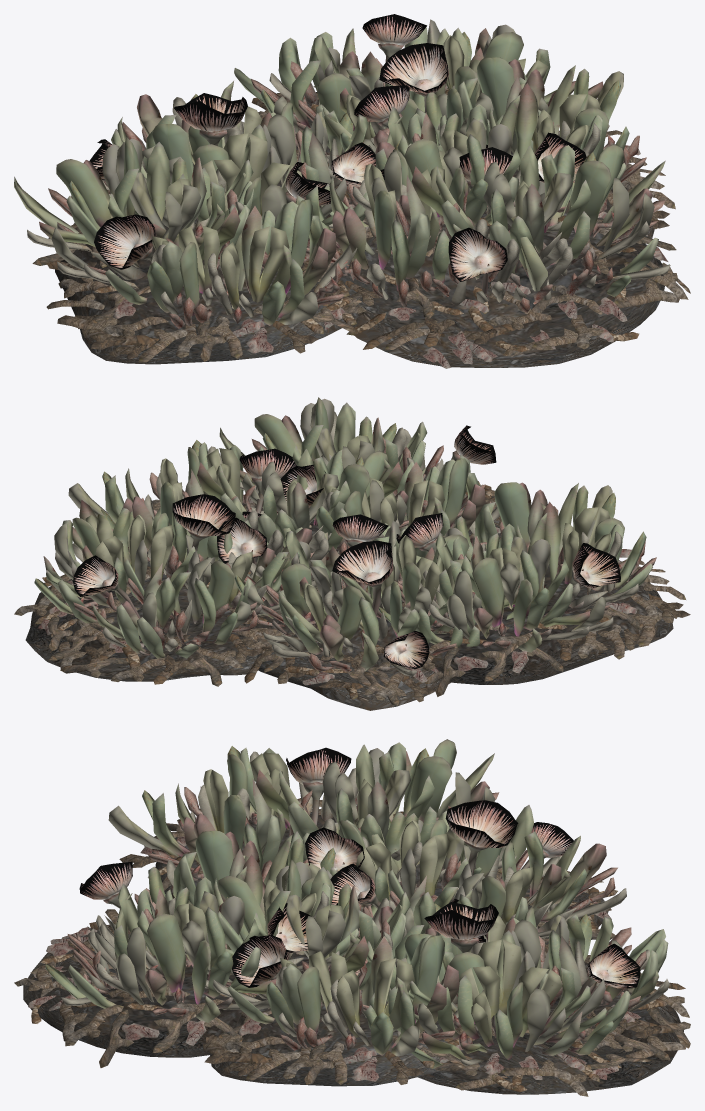
The model's file is cheiridopsis_succulent_clump.fbx.
The picture shows the model from 3 angles, top to bottom: view 1: azimuth 30°, elevation 25°; view 2: azimuth 150°, elevation 25°; view 3: azimuth 270°, elevation 25°; orthographic projection. The views are drawn at different scales.
Visible parts, largest first — view 1: cheiridopsis_succulent_clump; view 2: cheiridopsis_succulent_clump; view 3: cheiridopsis_succulent_clump.
Boxes of the visible parts, x1,y1,x2,y2 form: cheiridopsis_succulent_clump: (14, 14, 690, 368); cheiridopsis_succulent_clump: (14, 397, 690, 710); cheiridopsis_succulent_clump: (14, 739, 690, 1096).
Size of the model in its own units: 0.8496 by 0.164 by 0.8126.
1 material, 1 textured.
